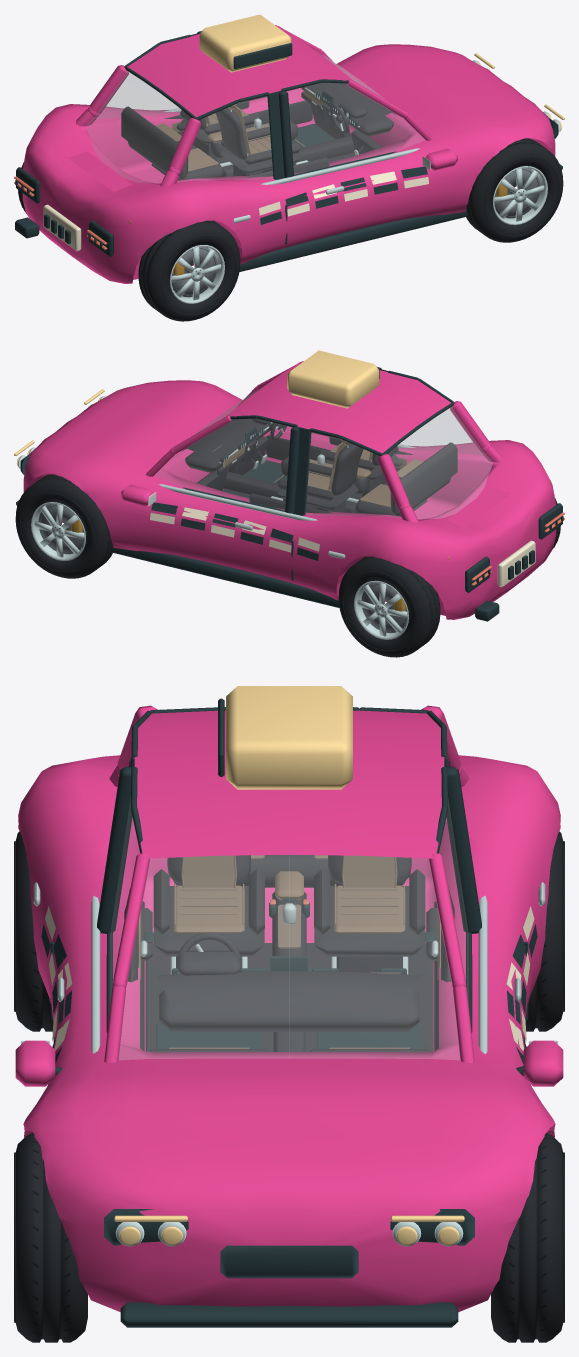
Rendered from taxi.glb.
3 views of the same model, one above another, from view 1: azimuth 30°, elevation 25°; view 2: azimuth 150°, elevation 25°; view 3: azimuth 270°, elevation 25° (orthographic). The views are drawn at different scales.
Visible parts, largest first — view 1: Paint taxi, Automotive glass.004, Rolling wheels.004, Cabin upholstery.004, Tyre rubber.004, Headlamp.004, Warm white trim.004, Tailored cabin leather.004, Wheel hubs.004; view 2: Paint taxi, Automotive glass.004, Rolling wheels.004, Cabin upholstery.004, Tyre rubber.004, Headlamp.004, Warm white trim.004, Tailored cabin leather.004, Wheel hubs.004; view 3: Paint taxi, Automotive glass.004, Cabin upholstery.004, Tyre rubber.004, Rolling wheels.004, Headlamp.004, Tailored cabin leather.004, Wheel hubs.004, Seat stitching and console.004, Warm white trim.004.
Boxes of the visible parts, left/top/right/bottom form: Paint taxi: left=22, top=25, right=555, bottom=283; Automotive glass.004: left=86, top=52, right=424, bottom=183; Rolling wheels.004: left=18, top=138, right=563, bottom=321; Cabin upholstery.004: left=121, top=82, right=396, bottom=180; Tyre rubber.004: left=15, top=31, right=562, bottom=272; Headlamp.004: left=199, top=14, right=564, bottom=129; Warm white trim.004: left=43, top=113, right=428, bottom=251; Tailored cabin leather.004: left=155, top=88, right=325, bottom=171; Wheel hubs.004: left=163, top=60, right=560, bottom=222; Paint taxi: left=23, top=361, right=556, bottom=619; Automotive glass.004: left=154, top=388, right=492, bottom=519; Rolling wheels.004: left=15, top=474, right=560, bottom=657; Cabin upholstery.004: left=181, top=418, right=457, bottom=516; Tyre rubber.004: left=16, top=367, right=563, bottom=621; Headlamp.004: left=14, top=350, right=379, bottom=465; Warm white trim.004: left=150, top=507, right=535, bottom=587; Tailored cabin leather.004: left=223, top=439, right=423, bottom=507; Wheel hubs.004: left=18, top=396, right=415, bottom=558; Paint taxi: left=15, top=705, right=563, bottom=1312; Automotive glass.004: left=110, top=800, right=468, bottom=1059; Cabin upholstery.004: left=124, top=854, right=454, bottom=1052; Tyre rubber.004: left=41, top=698, right=537, bottom=1327; Rolling wheels.004: left=14, top=831, right=564, bottom=1342; Headlamp.004: left=114, top=686, right=464, bottom=1245; Tailored cabin leather.004: left=138, top=855, right=440, bottom=979; Wheel hubs.004: left=33, top=882, right=545, bottom=1246; Seat stitching and console.004: left=169, top=855, right=409, bottom=1048; Warm white trim.004: left=45, top=906, right=534, bottom=1051.
Bounding box in the file's own units: 1.94 × 0.8403 × 0.9956.
